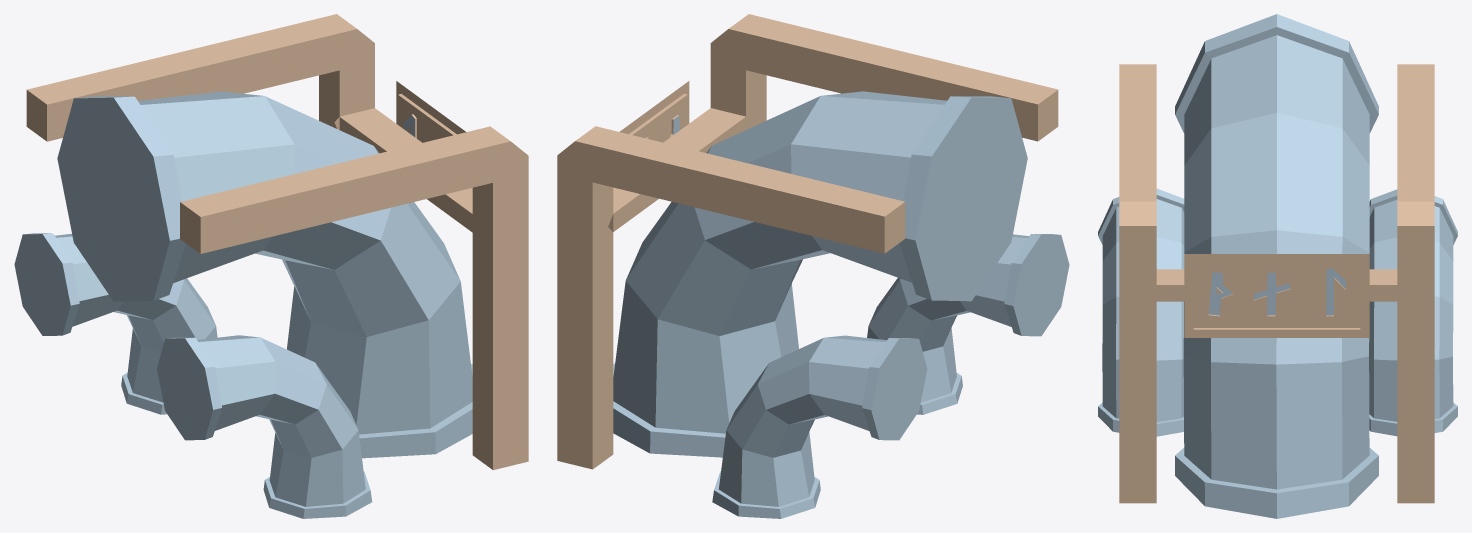
The model's file is Pipes.fbx.
The picture shows the model from 3 angles, left to right: view 1: azimuth 30°, elevation 25°; view 2: azimuth 150°, elevation 25°; view 3: azimuth 270°, elevation 25°; orthographic projection. The views are drawn at different scales.
Parts seen in each view (by area): view 1: Pipes_Small; view 2: Pipes_Small; view 3: Pipes_Small.
Part boxes in pixels (box(x1,y1,x2,y2)): Pipes_Small: box(14, 14, 528, 518); Pipes_Small: box(557, 14, 1069, 518); Pipes_Small: box(1098, 14, 1457, 518).
Size of the model in its own units: 4.1 by 4.1 by 3.88.
